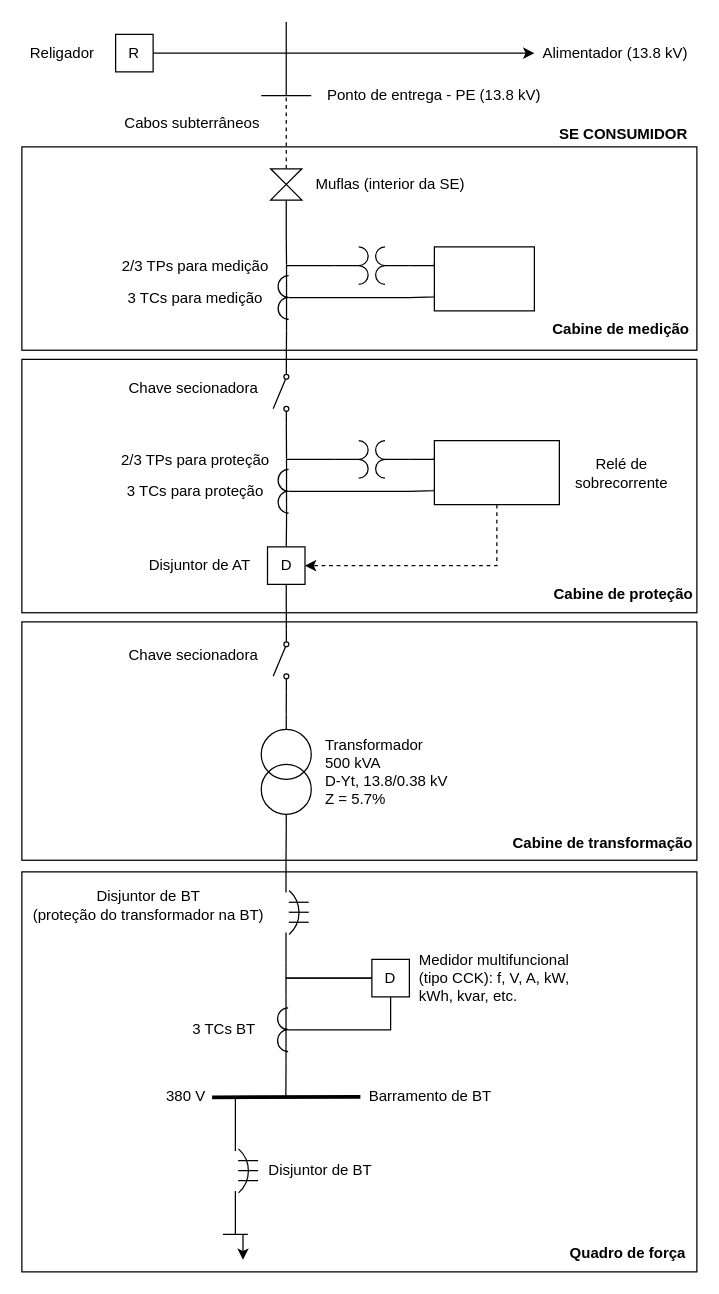
Image size: 719x1294. Some labels were removed from this diagram. The centre of each missing label's shape, as x and y in pixels:
50/51 50N/51N/51NS 47/59: (x=496, y=472)
Medidor de kWh e kvarh: (x=483, y=278)
